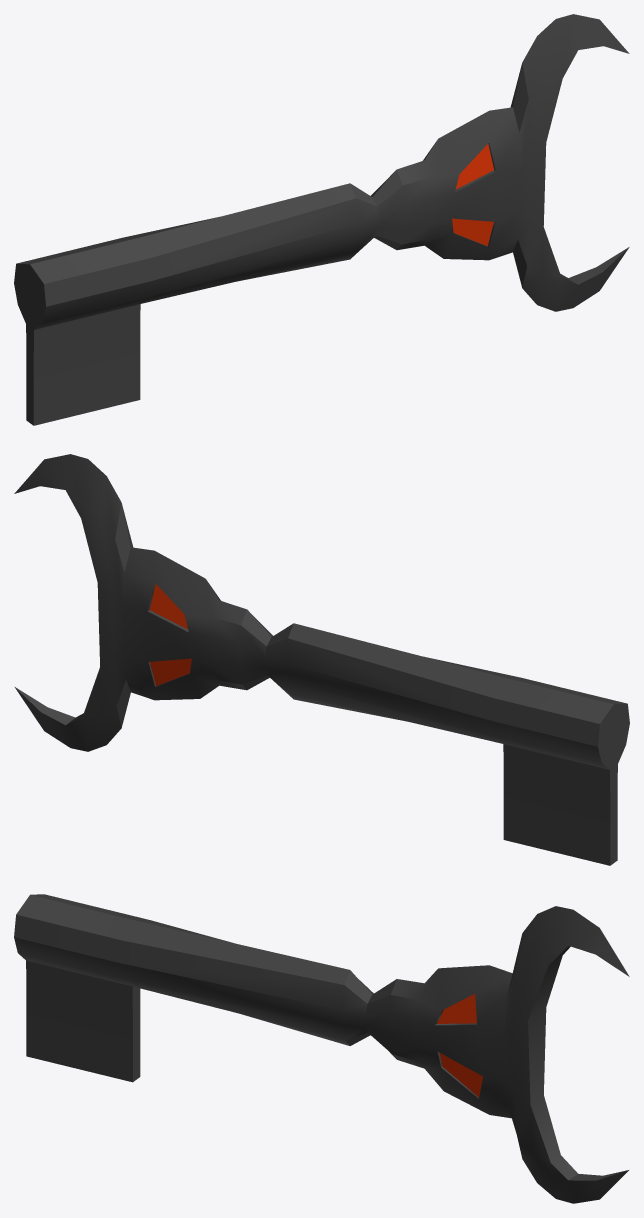
The model's file is Chest Key 1.fbx.
3 renders of one model, top to bottom at view 1: azimuth 30°, elevation 25°; view 2: azimuth 150°, elevation 25°; view 3: azimuth 330°, elevation 25°, orthographic.
Parts seen in each view (by area): view 1: Chest Key; view 2: Chest Key; view 3: Chest Key.
Boxes of the visible parts, left/top/right/bottom form: Chest Key: left=14, top=14, right=629, bottom=425; Chest Key: left=14, top=454, right=629, bottom=865; Chest Key: left=14, top=894, right=629, bottom=1203.
Size of the model in its own units: 63.21 by 29.61 by 5.86.
